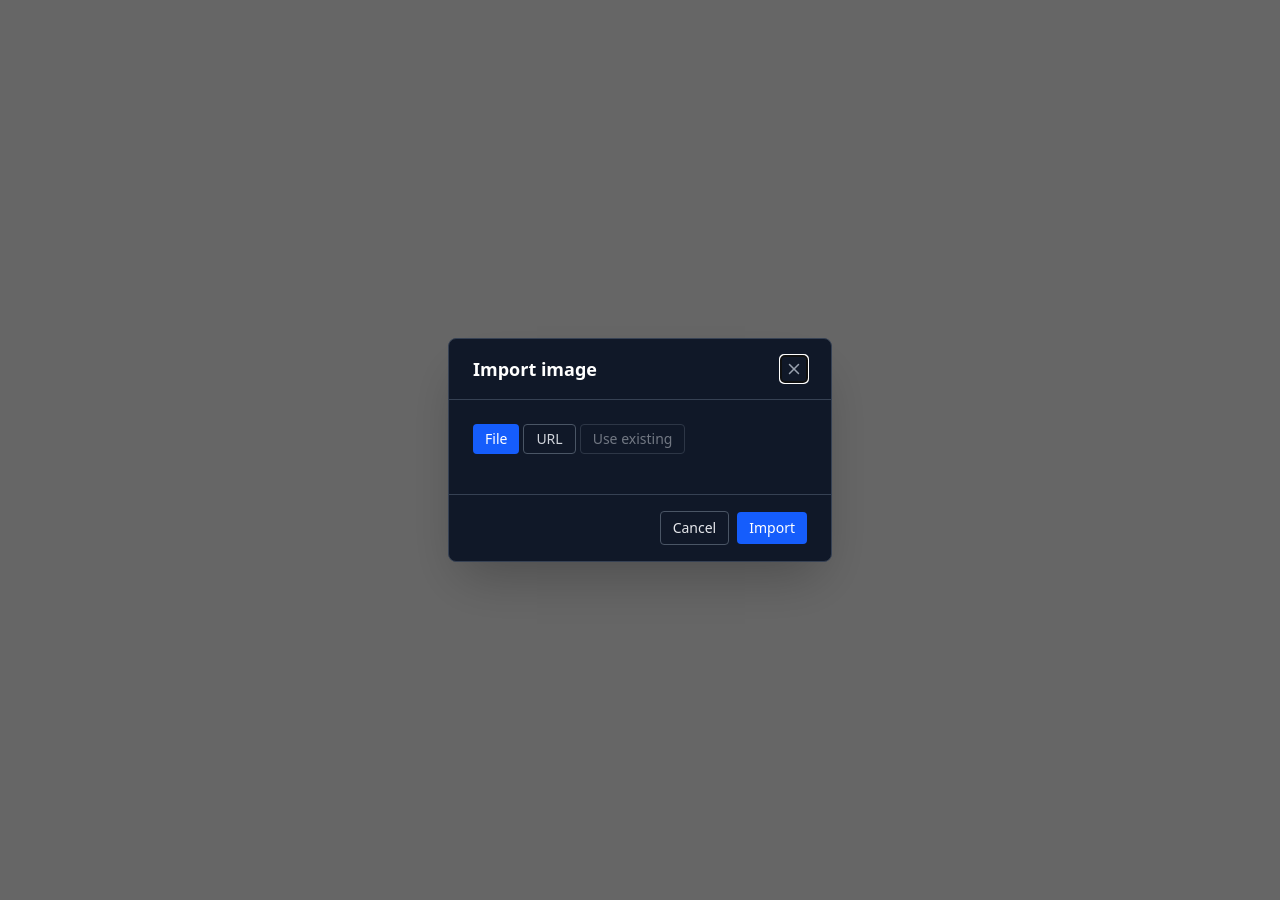
Test case: ImageImportDialog (P5) › shows a localised failure message for an import error (must-fix #4)
Click the tab "URL". click: (550, 439)
box: 523,424 -> 576,454
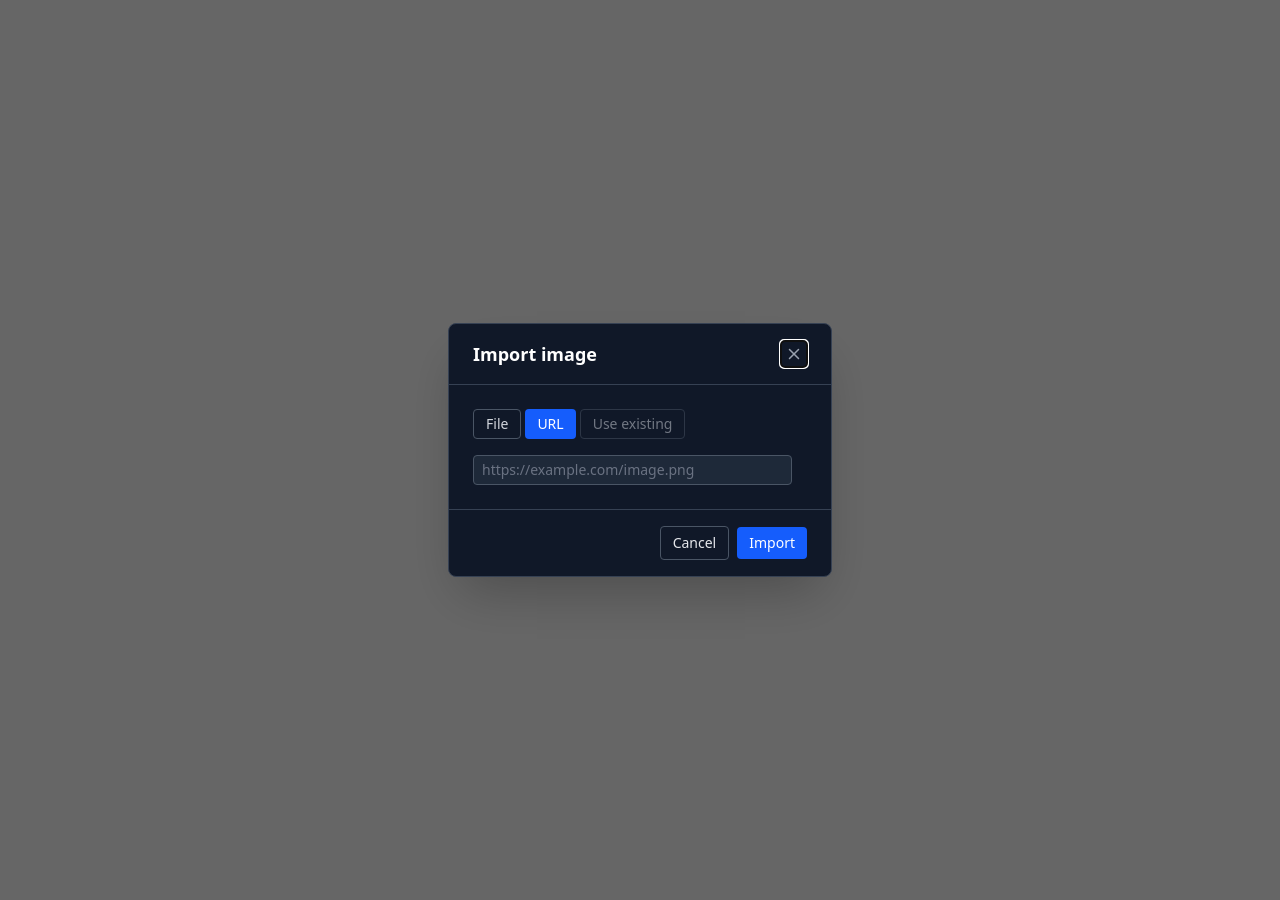
Type "https://x.test/missing.png" into the field named "URL". click: (632, 470)
box: 473,455 -> 792,485
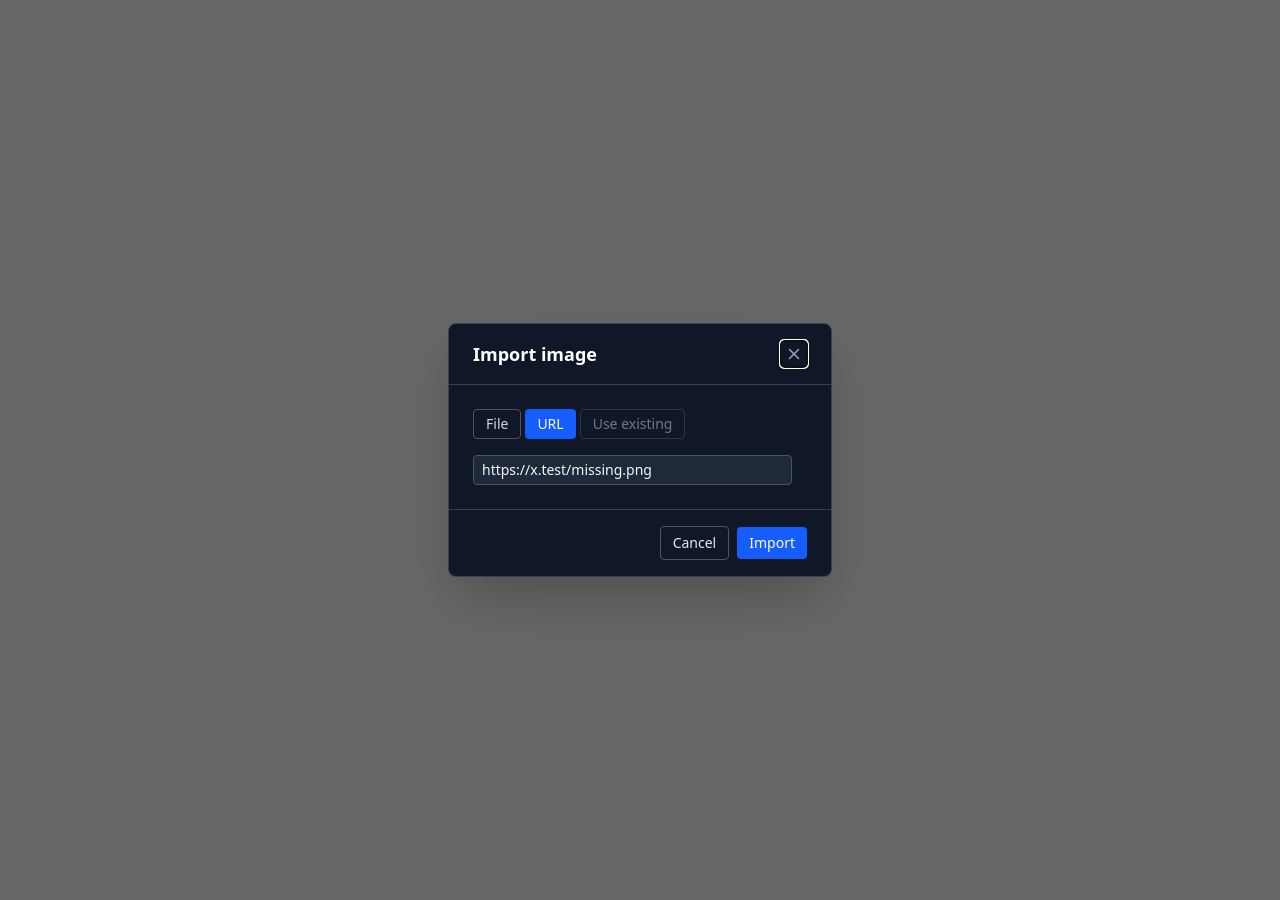
Click the button "Import". click: (772, 543)
box: 737,527 -> 807,559
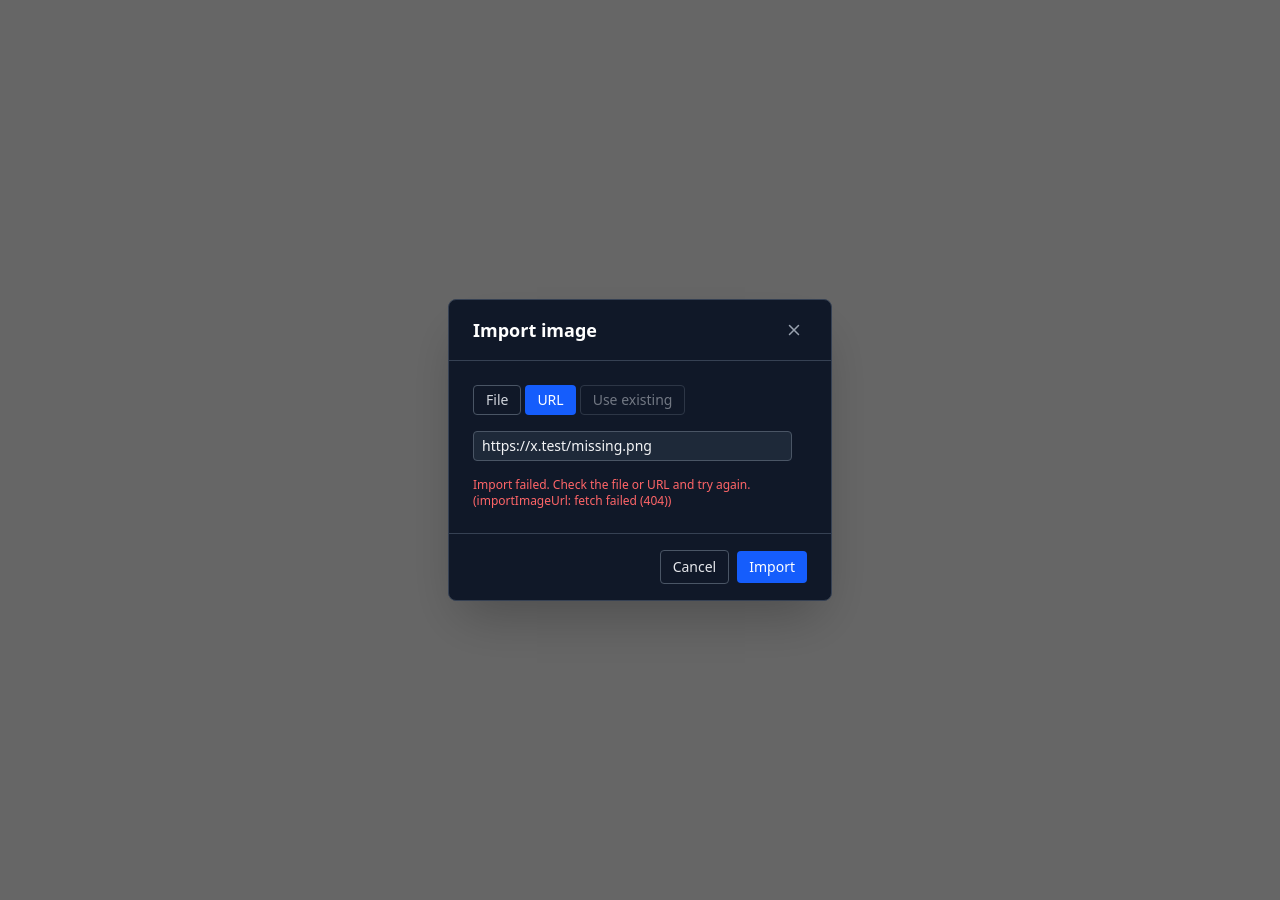
Expected: the text "fetch failed (404)" is shown, 473,476 -> 750,509
